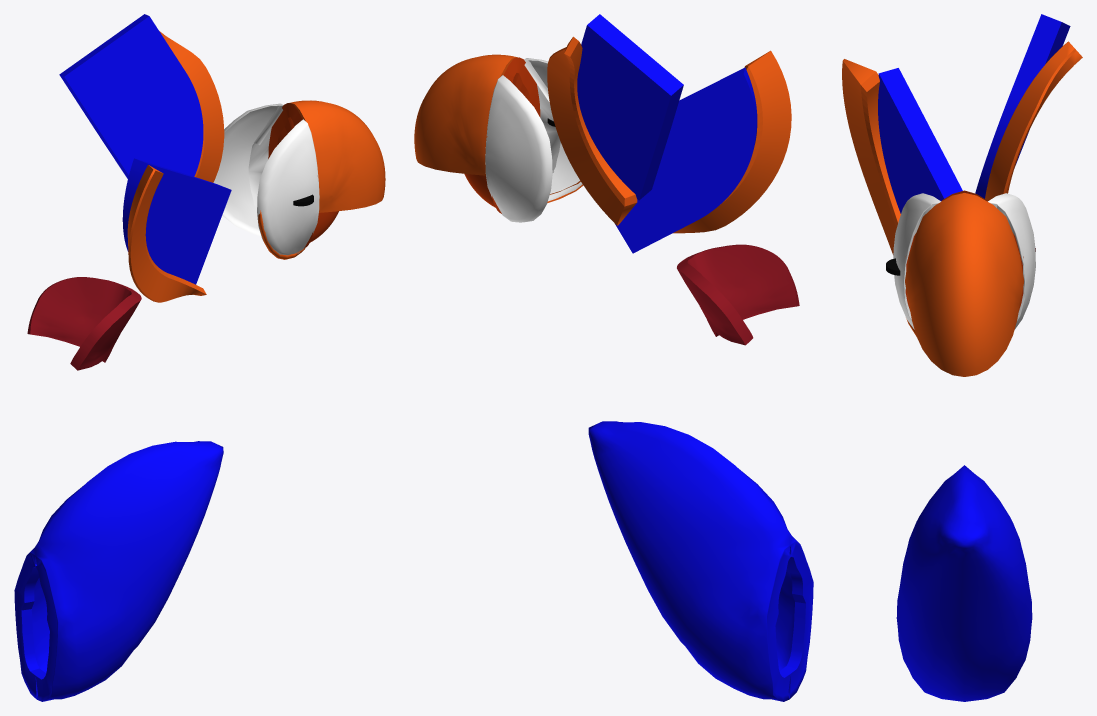
Rendered from berty3D.FBX.
3 views of the same model, side by side, from view 1: azimuth 30°, elevation 25°; view 2: azimuth 150°, elevation 25°; view 3: azimuth 270°, elevation 25° (orthographic). The views are drawn at different scales.
Visible parts, largest first — view 1: OilTank001, Cylinder003, Sphere004, Cylinder002, Sphere001, Sphere003, siiven_reuna, siiven_reuna001, nokan base; view 2: OilTank001, Cylinder002, Cylinder003, Sphere004, Sphere001, Sphere003, siiven_reuna, siiven_reuna001, nokan base; view 3: OilTank001, Sphere001, Cylinder002, siiven_reuna, Sphere004, siiven_reuna001, Cylinder003.
Boxes of the visible parts, x1,y1,x2,y2 form: OilTank001: (14, 441, 223, 701); Cylinder003: (59, 14, 203, 178); Sphere004: (213, 103, 319, 255); Cylinder002: (122, 158, 231, 284); Sphere001: (289, 100, 385, 212); Sphere003: (27, 277, 141, 370); siiven_reuna: (127, 165, 206, 302); siiven_reuna001: (159, 31, 224, 182); nokan base: (268, 103, 313, 248); OilTank001: (588, 421, 813, 701); Cylinder002: (615, 67, 757, 253); Cylinder003: (577, 14, 683, 200); Sphere004: (485, 58, 582, 222); Sphere001: (414, 54, 517, 175); Sphere003: (677, 244, 799, 345); siiven_reuna: (673, 50, 791, 233); siiven_reuna001: (547, 36, 637, 225); nokan base: (487, 57, 540, 213); OilTank001: (896, 465, 1032, 701); Sphere001: (905, 193, 1023, 376); Cylinder002: (878, 68, 962, 213); siiven_reuna: (842, 59, 900, 254); Sphere004: (893, 193, 1035, 329); siiven_reuna001: (985, 41, 1082, 200); Cylinder003: (975, 14, 1070, 198).
Bounding box in the file's own units: 11.02 × 18.95 × 5.48.
